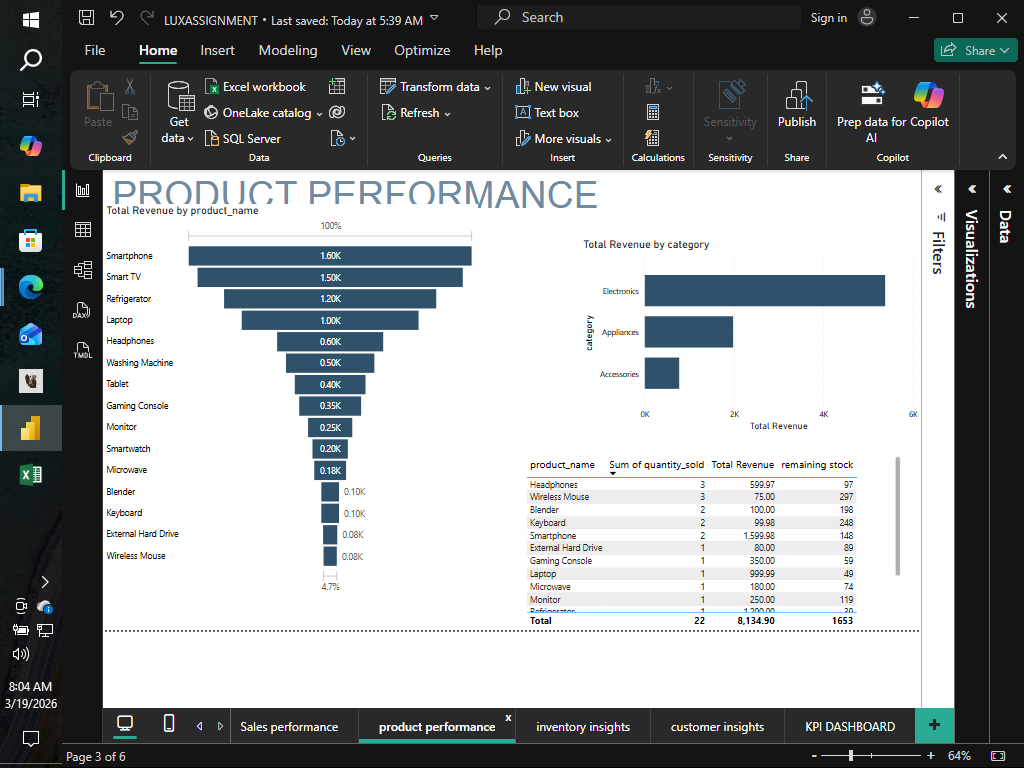

The dashboard page shown, as its layout file describes it:
{"tool":"powerbi","page":{"name":"product performance","canvas":[1280,720],"ordinal":2},"visuals":[{"type":"textbox","box":[9.5,0,1243.8,106.7],"z":0},{"type":"barChart","fields":{"Category":["Dim products.category"],"Y":["Dim products.Total Revenue"]},"box":[747.1,107.1,532.9,306.6],"z":1000},{"type":"tableEx","fields":{"Values":["Dim products.product_name","Sum(Fact sales.quantity_sold)","Dim products.Total Revenue","Dim Inventory.remaining stock"]},"box":[657,442.9,596.2,277.4],"z":2000},{"type":"funnel","fields":{"Category":["Dim products.product_name"],"Y":["Dim products.Total Revenue"]},"box":[0,53.2,586.8,613.4],"z":3000}]}

Visuals, with their boxes on the page's 1280x720 design canvas (x1, y1, x2, y2). These are canvas units, not pixel positions in the 1024x768 screenshot, which may show the page scaled, cropped or inside an application window:
textbox: detection(10, 0, 1253, 107)
barChart - Dim products.category x Dim products.Total Revenue: detection(747, 107, 1280, 414)
tableEx - Dim products.product_name x Sum(Fact sales.quantity_sold): detection(657, 443, 1253, 720)
funnel - Dim products.product_name x Dim products.Total Revenue: detection(0, 53, 587, 667)
